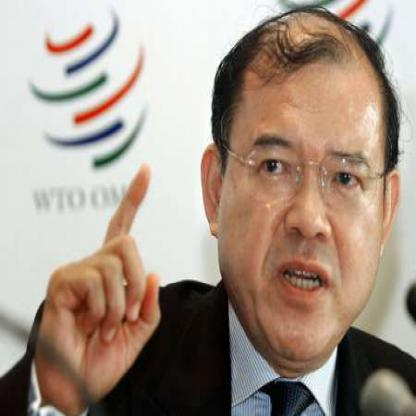face: (221, 11, 393, 368)
